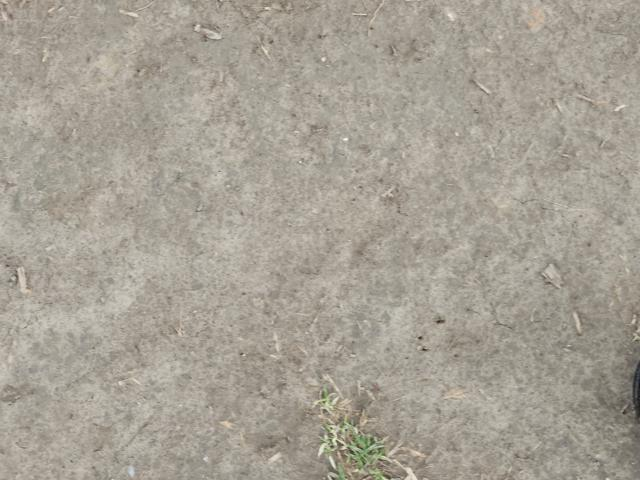bad weed: (286, 378, 408, 480)
